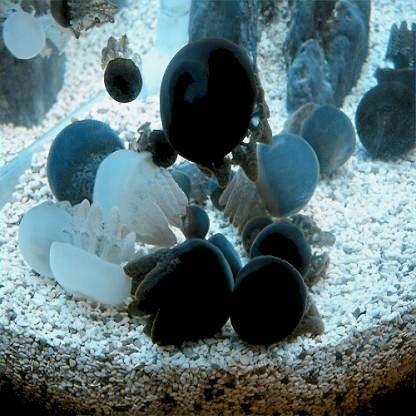Fish: (2, 9, 70, 61), (99, 36, 144, 104), (49, 3, 121, 37)
Handstand: (161, 42, 271, 183), (131, 243, 233, 343), (53, 203, 137, 313), (88, 151, 185, 243), (222, 138, 318, 229), (231, 264, 328, 344), (47, 121, 125, 211), (19, 196, 83, 282), (285, 106, 356, 176), (254, 227, 332, 287), (354, 83, 414, 159), (376, 22, 416, 106), (131, 121, 177, 167), (170, 164, 216, 204), (174, 206, 210, 240), (243, 217, 275, 250)
